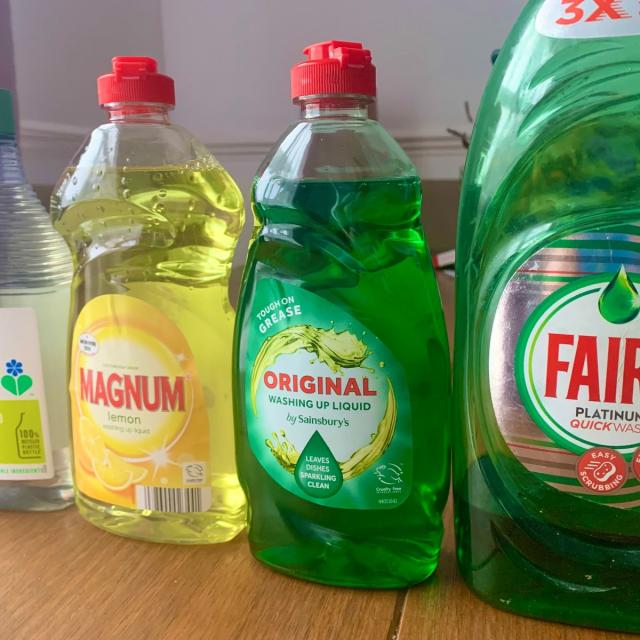plastic: (450, 3, 640, 623), (248, 41, 452, 586), (59, 58, 248, 547), (0, 83, 73, 512)
